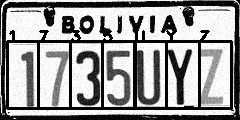1: (7, 41, 38, 108)
3: (70, 41, 102, 108)
5: (102, 41, 135, 108)
7: (38, 41, 70, 108)
U: (134, 41, 166, 108)
Y: (166, 41, 199, 108)
Z: (199, 41, 231, 108)
